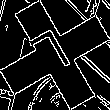L_SE: (29, 25, 81, 85)
